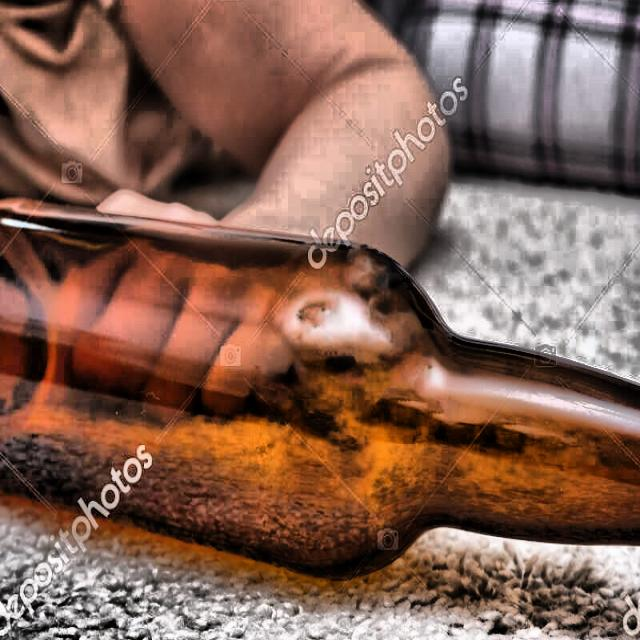glass: (0, 197, 640, 583)
